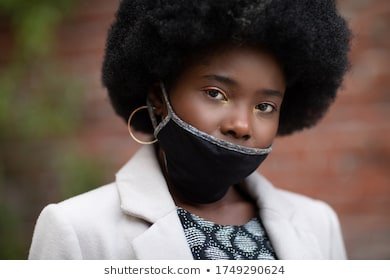mask_weared_incorrect: (185, 77, 283, 168)
